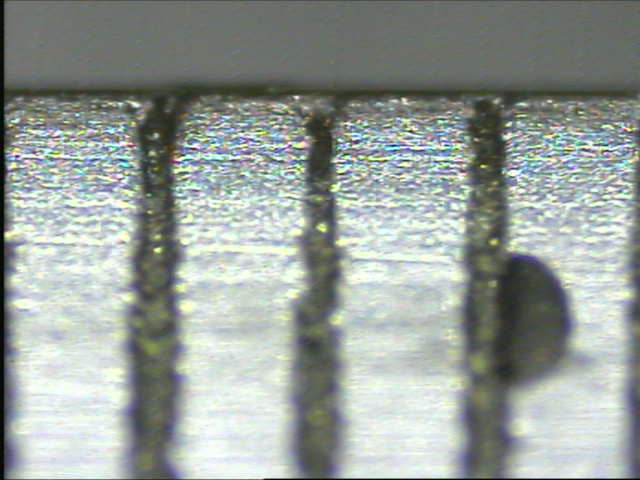line: (113, 107, 186, 479), (451, 100, 515, 477), (285, 107, 347, 478)
